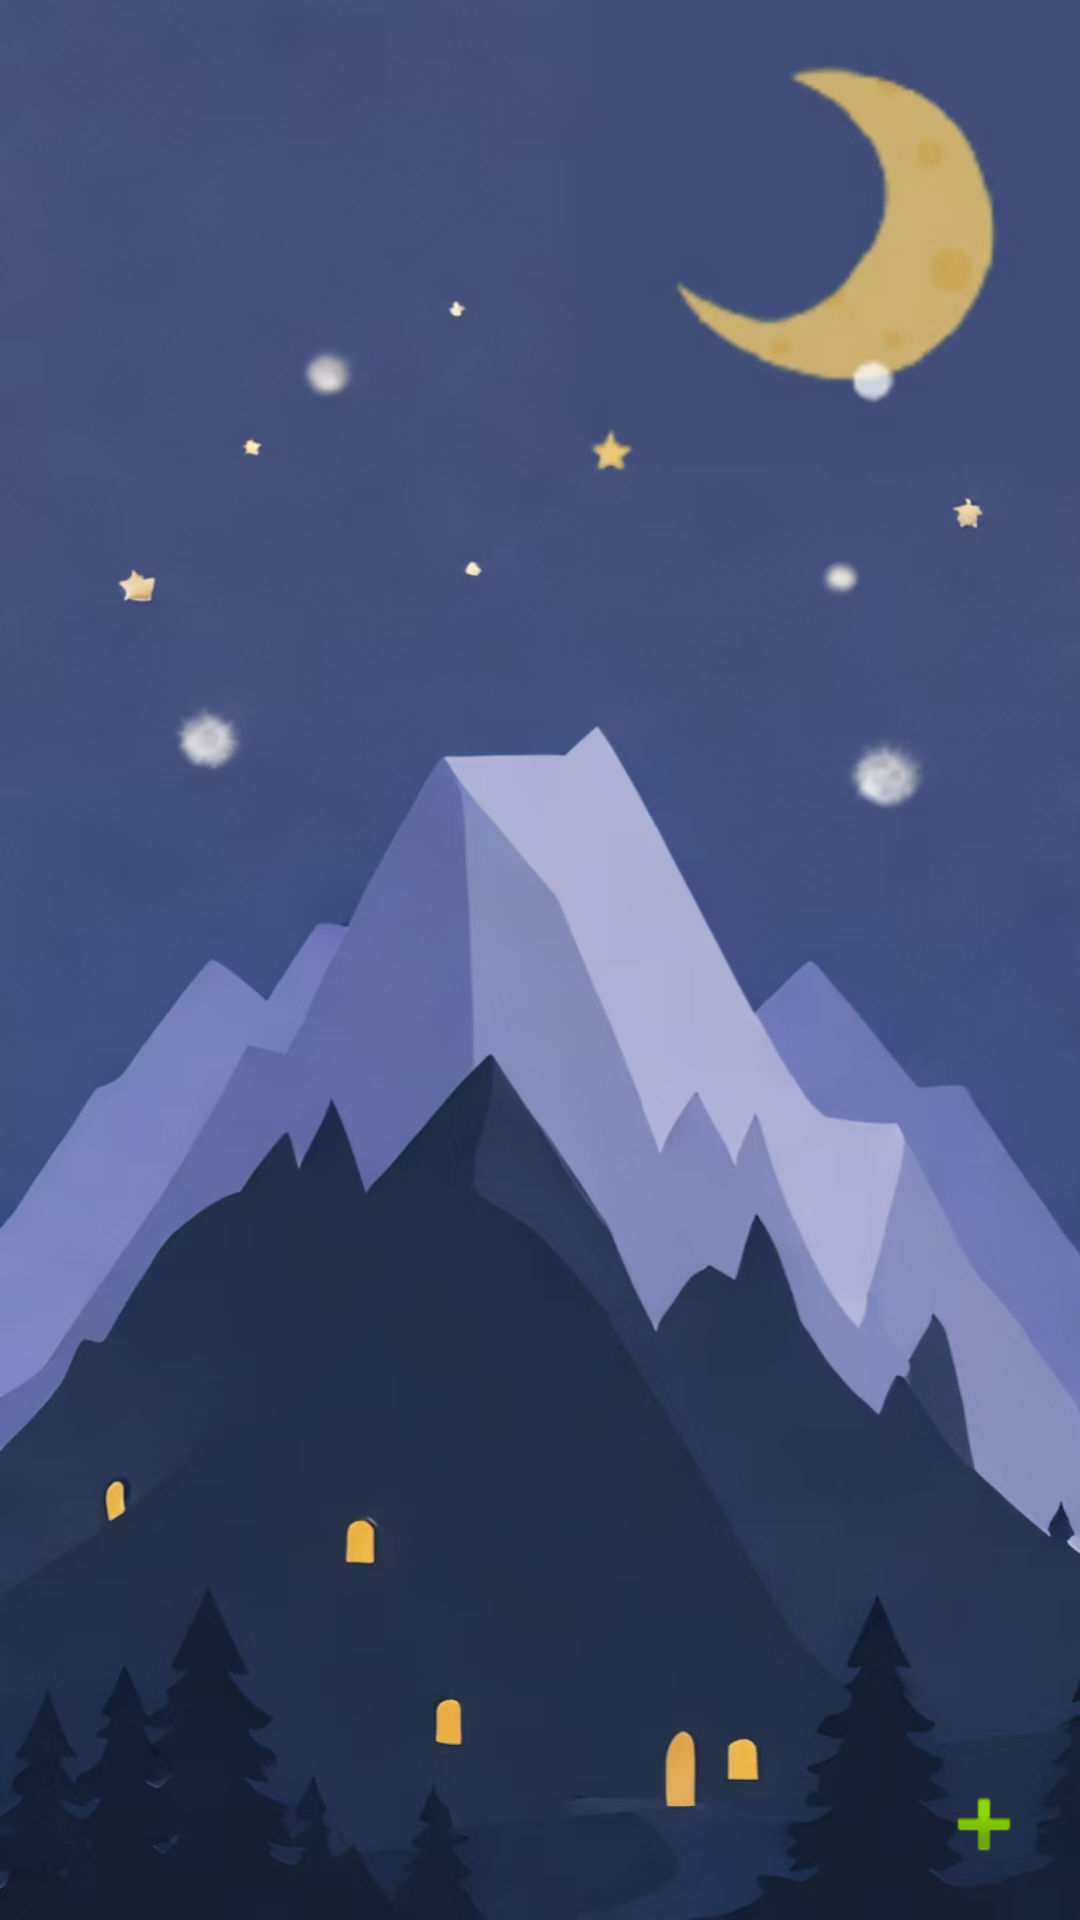

Icons on this 1080x1920 Android screen, each with the point to tap as (x=x, y=y):
Add Post: (x=973, y=1828)
